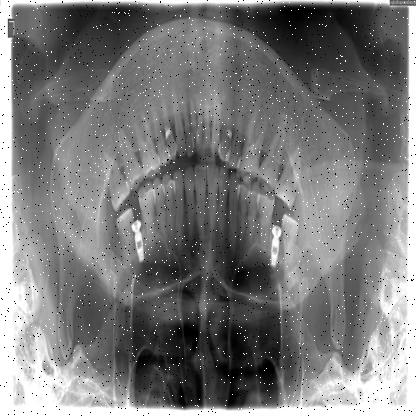Bicon: (129, 230, 150, 263), (268, 238, 281, 266)
